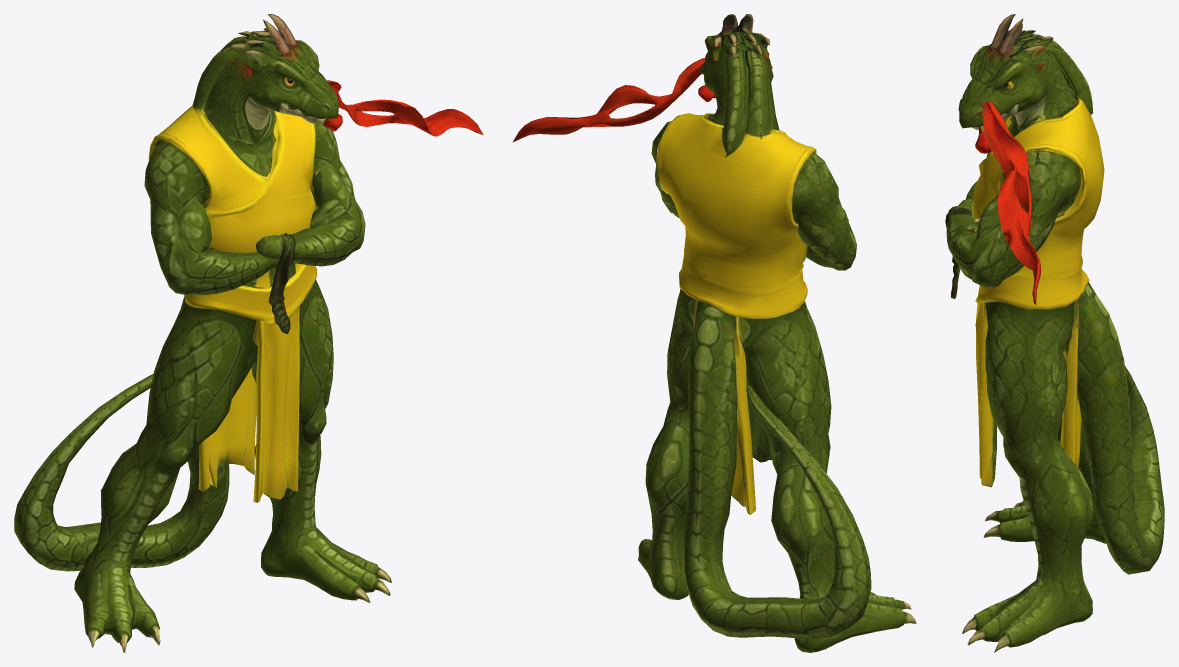
Rendered from signore.glb.
The picture shows the model from 3 angles, left to right: view 1: azimuth 30°, elevation 25°; view 2: azimuth 150°, elevation 25°; view 3: azimuth 270°, elevation 25°; orthographic projection. The views are drawn at different scales.
Size of the model in its own units: 0.7026 by 0.9517 by 0.3237.
1 material, 1 textured.
